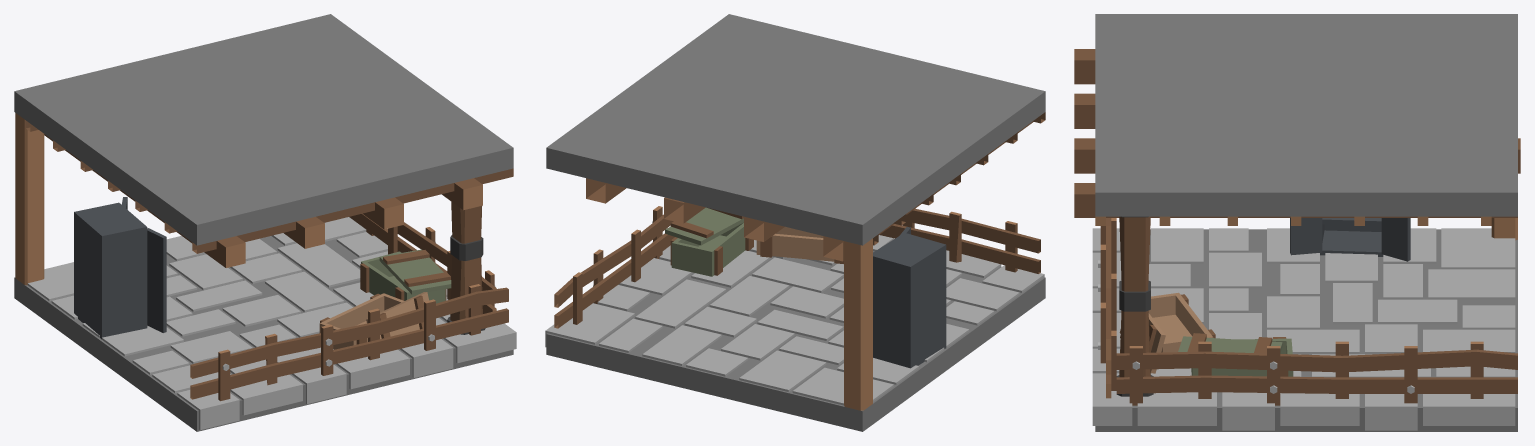
The model's file is WeaponStorage_Level_01_CornerLeftRight.fbx.
3 renders of one model, left to right at view 1: azimuth 30°, elevation 25°; view 2: azimuth 150°, elevation 25°; view 3: azimuth 270°, elevation 25°, orthographic. The views are drawn at different scales.
Visible parts, largest first — view 1: WeaponStorage_Level_01_CornerLeftRight; view 2: WeaponStorage_Level_01_CornerLeftRight; view 3: WeaponStorage_Level_01_CornerLeftRight.
Part boxes in pixels (left/top/right/bottom): WeaponStorage_Level_01_CornerLeftRight: left=14, top=14, right=516, bottom=431; WeaponStorage_Level_01_CornerLeftRight: left=545, top=14, right=1045, bottom=431; WeaponStorage_Level_01_CornerLeftRight: left=1074, top=14, right=1520, bottom=431.
Bounding box in the file's own units: 8.05 × 5 × 8.45.
